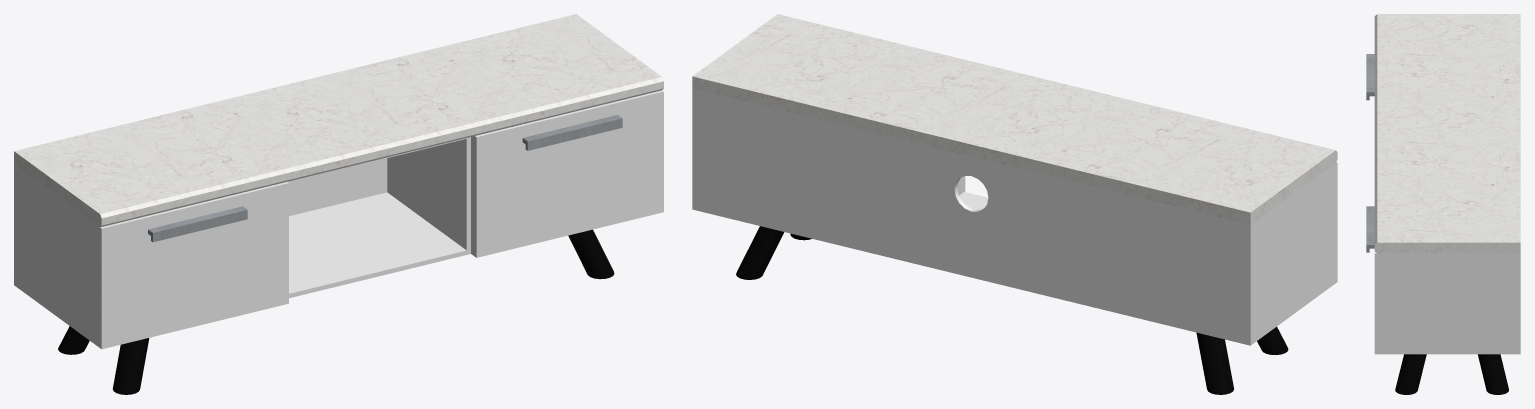
File: modern_tv_table.fbx
The picture shows the model from 3 angles, left to right: view 1: azimuth 30°, elevation 25°; view 2: azimuth 150°, elevation 25°; view 3: azimuth 270°, elevation 25°; orthographic projection. The views are drawn at different scales.
Visible parts, largest first — view 1: TV_table, drawer_cabinet_left, drawer_cabinet_right; view 2: TV_table, drawer_cabinet_left; view 3: TV_table, drawer_cabinet_right, drawer_cabinet_left.
Boxes of the visible parts, <box> form: TV_table: <box>14,14,663,394</box>; drawer_cabinet_left: <box>96,182,288,349</box>; drawer_cabinet_right: <box>471,90,663,257</box>; TV_table: <box>692,14,1337,394</box>; drawer_cabinet_left: <box>1332,162,1337,285</box>; TV_table: <box>1374,14,1520,394</box>; drawer_cabinet_right: <box>1366,206,1383,354</box>; drawer_cabinet_left: <box>1366,54,1374,100</box>.
Size of the model in its own units: 119 by 40 by 33.8.
